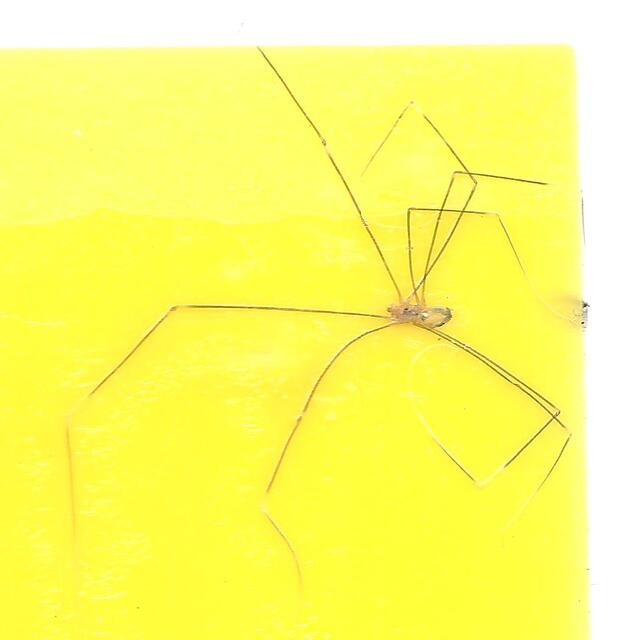Araneae: (63, 47, 577, 593)
